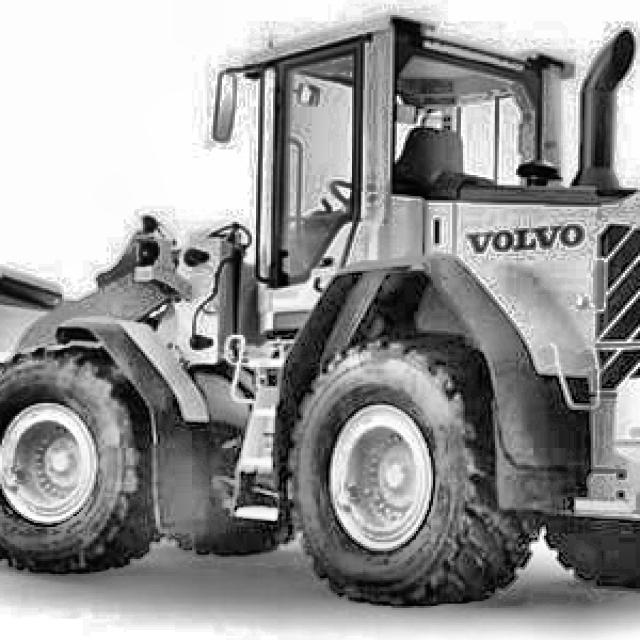buldozerpayloadergrader: (0, 13, 640, 606)
